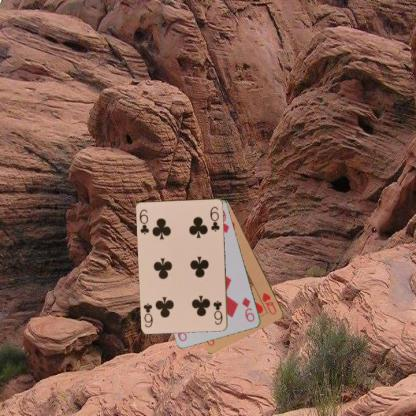6c: (137, 207, 150, 236), (211, 298, 223, 326)
9d: (240, 295, 256, 323)
Qh: (259, 290, 278, 316)
